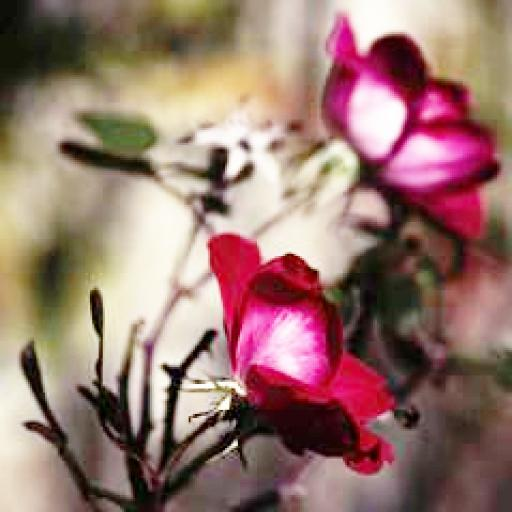rose: (204, 230, 396, 476), (319, 8, 506, 198)
